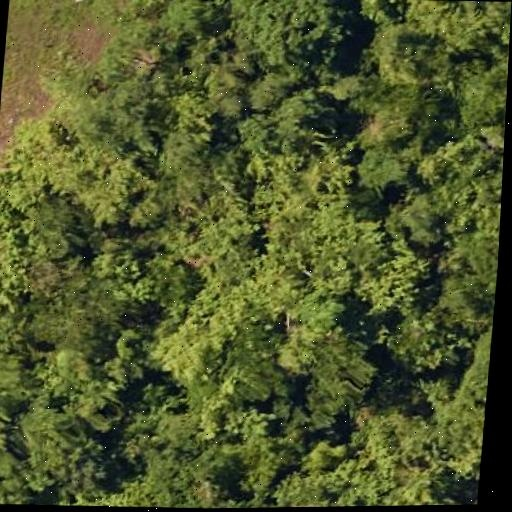tree-top: (285, 420, 450, 507), (107, 405, 239, 510), (261, 160, 367, 277), (212, 0, 350, 73), (58, 63, 155, 151), (51, 146, 154, 228), (9, 390, 97, 483), (406, 143, 504, 223), (139, 307, 232, 389), (29, 277, 115, 363), (300, 330, 376, 423), (432, 362, 489, 482), (382, 301, 468, 380), (0, 183, 43, 338), (429, 227, 500, 318), (358, 240, 435, 318), (90, 242, 184, 305), (401, 0, 512, 49), (263, 81, 337, 154), (76, 0, 185, 49), (225, 312, 282, 405), (223, 423, 294, 493), (445, 56, 509, 133), (190, 191, 254, 258), (345, 133, 411, 197), (147, 133, 215, 190), (280, 278, 348, 334), (153, 69, 210, 134), (47, 472, 144, 508), (31, 204, 87, 265), (374, 76, 438, 129), (219, 108, 279, 163), (383, 188, 440, 245), (245, 67, 297, 115), (370, 17, 420, 64), (162, 0, 216, 43), (213, 72, 254, 118), (0, 388, 14, 464), (0, 472, 31, 505)
